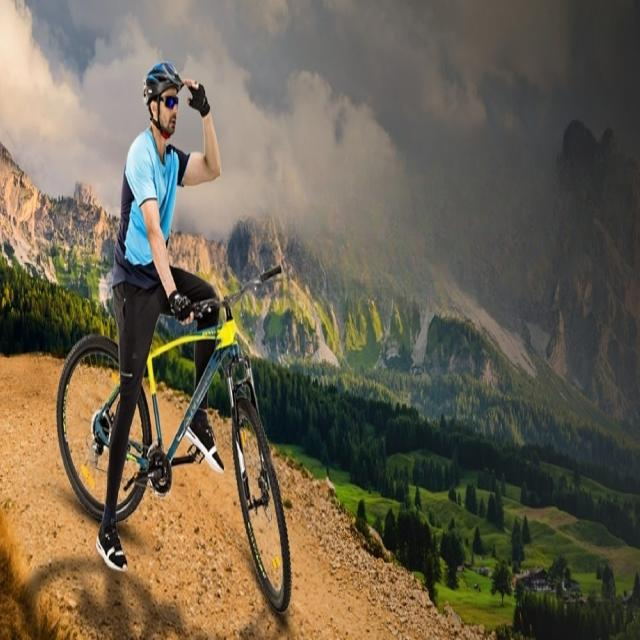bicycle: (58, 62, 291, 613)
